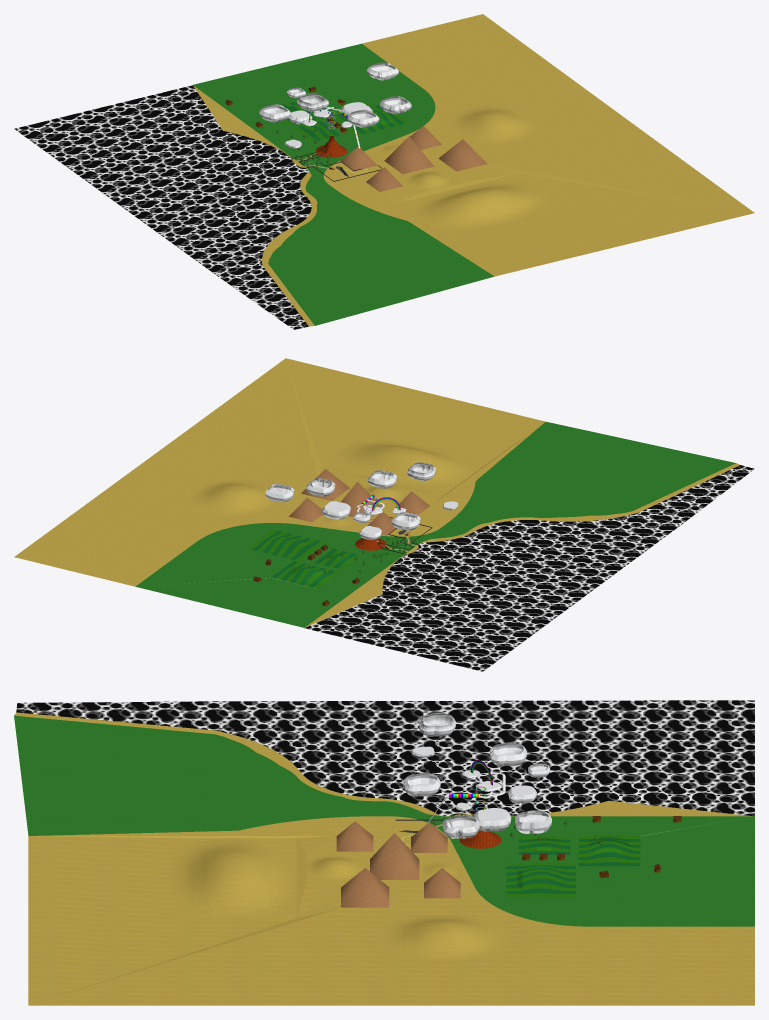
The picture shows the model from 3 angles, top to bottom: view 1: azimuth 30°, elevation 25°; view 2: azimuth 150°, elevation 25°; view 3: azimuth 270°, elevation 25°; orthographic projection. The views are drawn at different scales.
Visible parts, largest first — view 1: Sand, Water_Sparkling, grass.005, Pyramid, polygon20.003, Mowedgrass; view 2: Sand, Water_Sparkling, grass.005, polygon20.003, Mowedgrass, Pyramid; view 3: Sand, grass.005, Water_Sparkling, polygon20.003, Pyramid, Mowedgrass, Volcano.
Part boxes in pixels (x1,y1,x2,y2): Sand: (193,14,754,326); Water_Sparkling: (14,85,311,329); grass.005: (193,43,494,325); Pyramid: (340,126,487,191); polygon20.003: (259,62,411,148); Mowedgrass: (281,101,409,141); Sand: (14,358,739,627); Water_Sparkling: (304,465,754,671); grass.005: (135,421,735,627); polygon20.003: (265,462,458,540); Mowedgrass: (247,529,361,588); Pyramid: (289,468,429,535); Sand: (14,712,754,1005); grass.005: (14,715,754,926); Water_Sparkling: (16,700,754,816); polygon20.003: (403,713,551,838); Pyramid: (336,821,460,907); Mowedgrass: (506,836,640,897); Volcano: (459,830,501,848).
Bounding box in the file's own units: 734186 × 119269 × 751765.
Materials: 25 (25 with a texture image).
